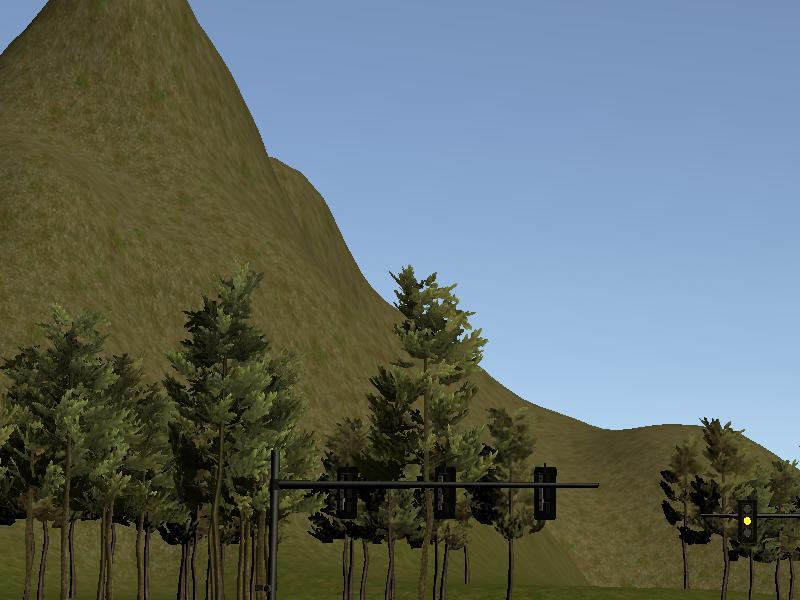Yellow: (738, 500, 757, 545)
